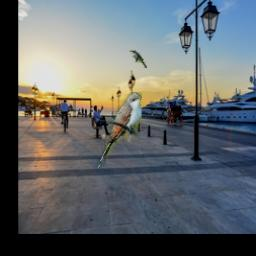Cuckoo: (97, 92, 143, 169), (131, 51, 148, 69)
